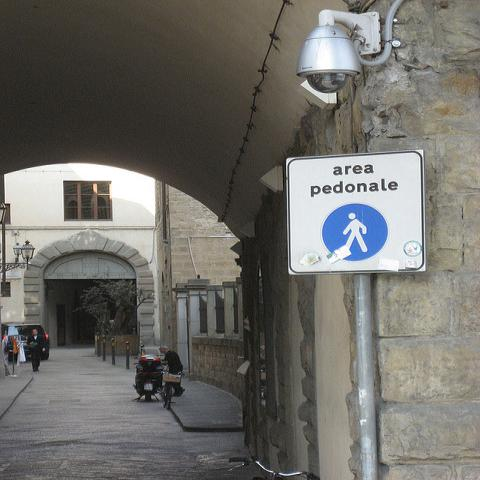car: (1, 322, 50, 362)
motorcycle: (132, 355, 168, 401)
